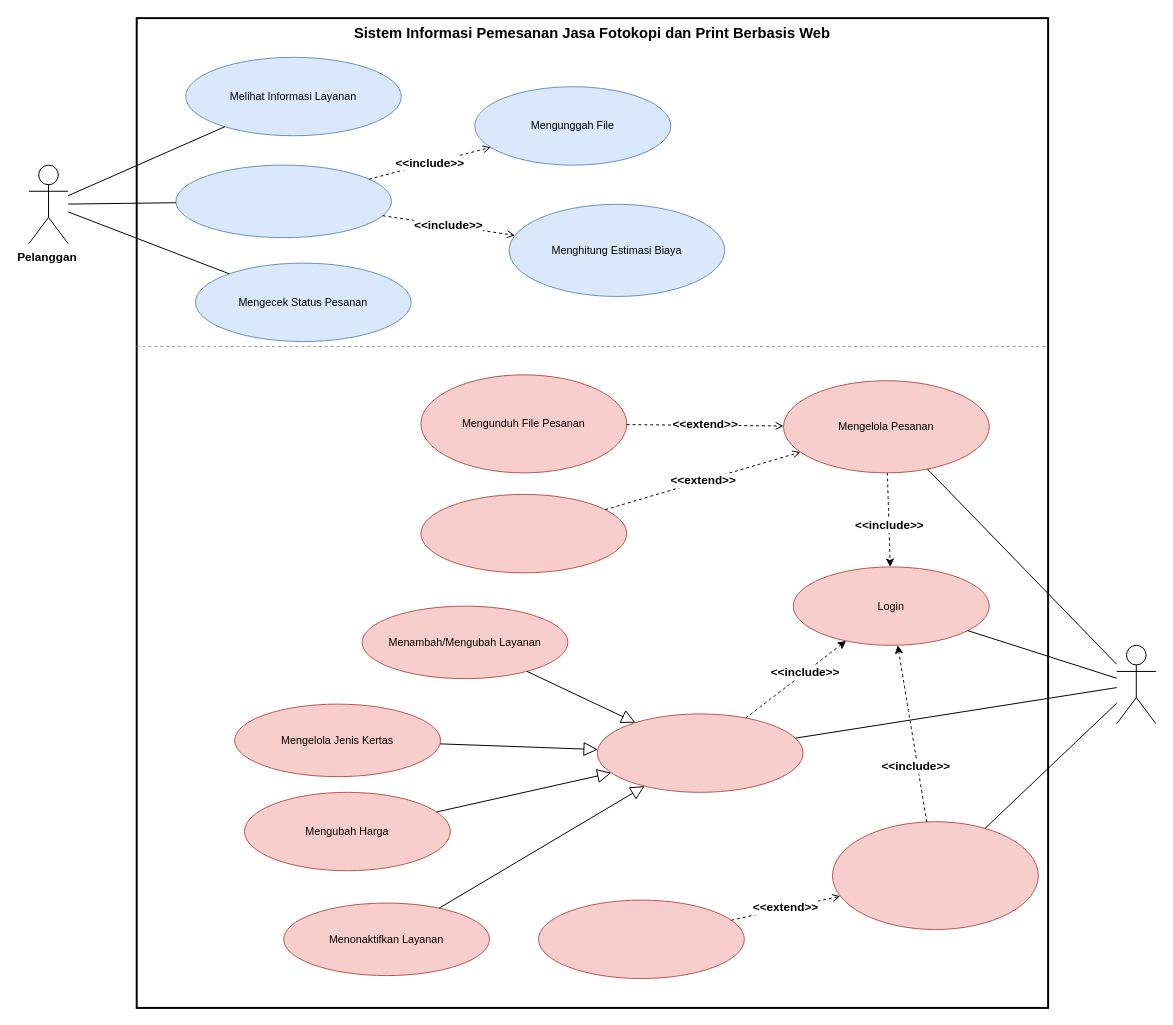
Image size: 1173x1025. Some labels were removed from this diagram. The centre of each missing label's shape, as x and y in pixels:
"Admin" belongs at point (1136, 684).
"Ekspor Rekap Transaksi" belongs at point (641, 939).
"Melihat Rekap Transaksi" belongs at point (935, 875).
"Membuat Pesanan" belongs at point (283, 201).
"Mengelola Layanan & Harga" belongs at point (699, 752).
"Mengubah Status Pesanan" belongs at point (523, 533).
